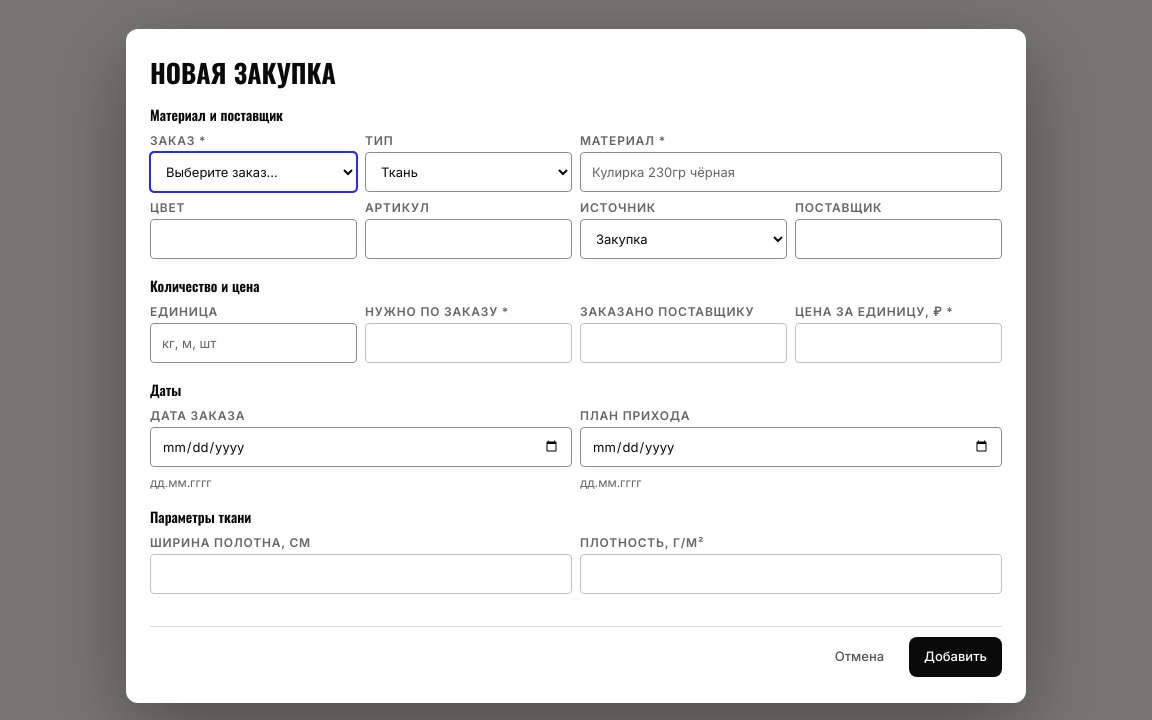
Test: AddPurchaseModal — правка 05.10 › подписи количества и цены несут выбранную единицу
The width and height of the screenshot is (1152, 720).
Type "кг" into the field named "Единица измерения" at [254, 343], box [150,323,357,363]
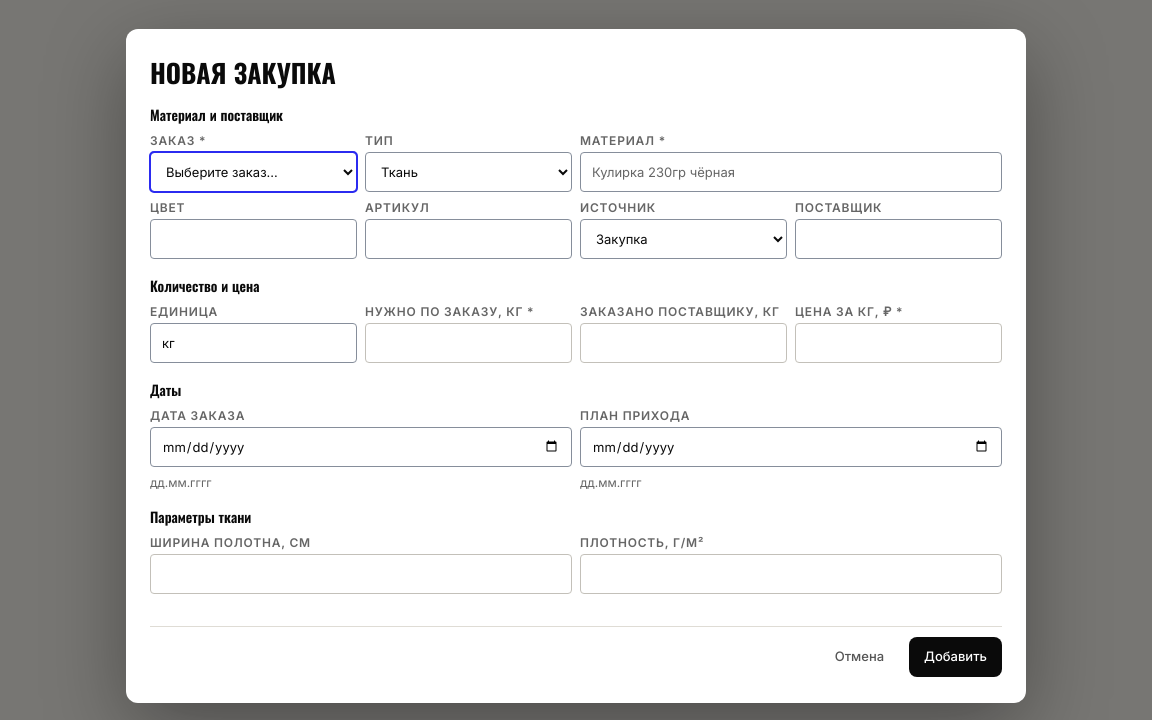
Expected: the text "Нужно по заказу, кг *" is shown, [365,304,534,319]
Expected: the text "Заказано поставщику, кг" is shown, [580,304,787,319]
Expected: the text "Цена за кг, ₽ *" is shown, [795,304,903,319]
